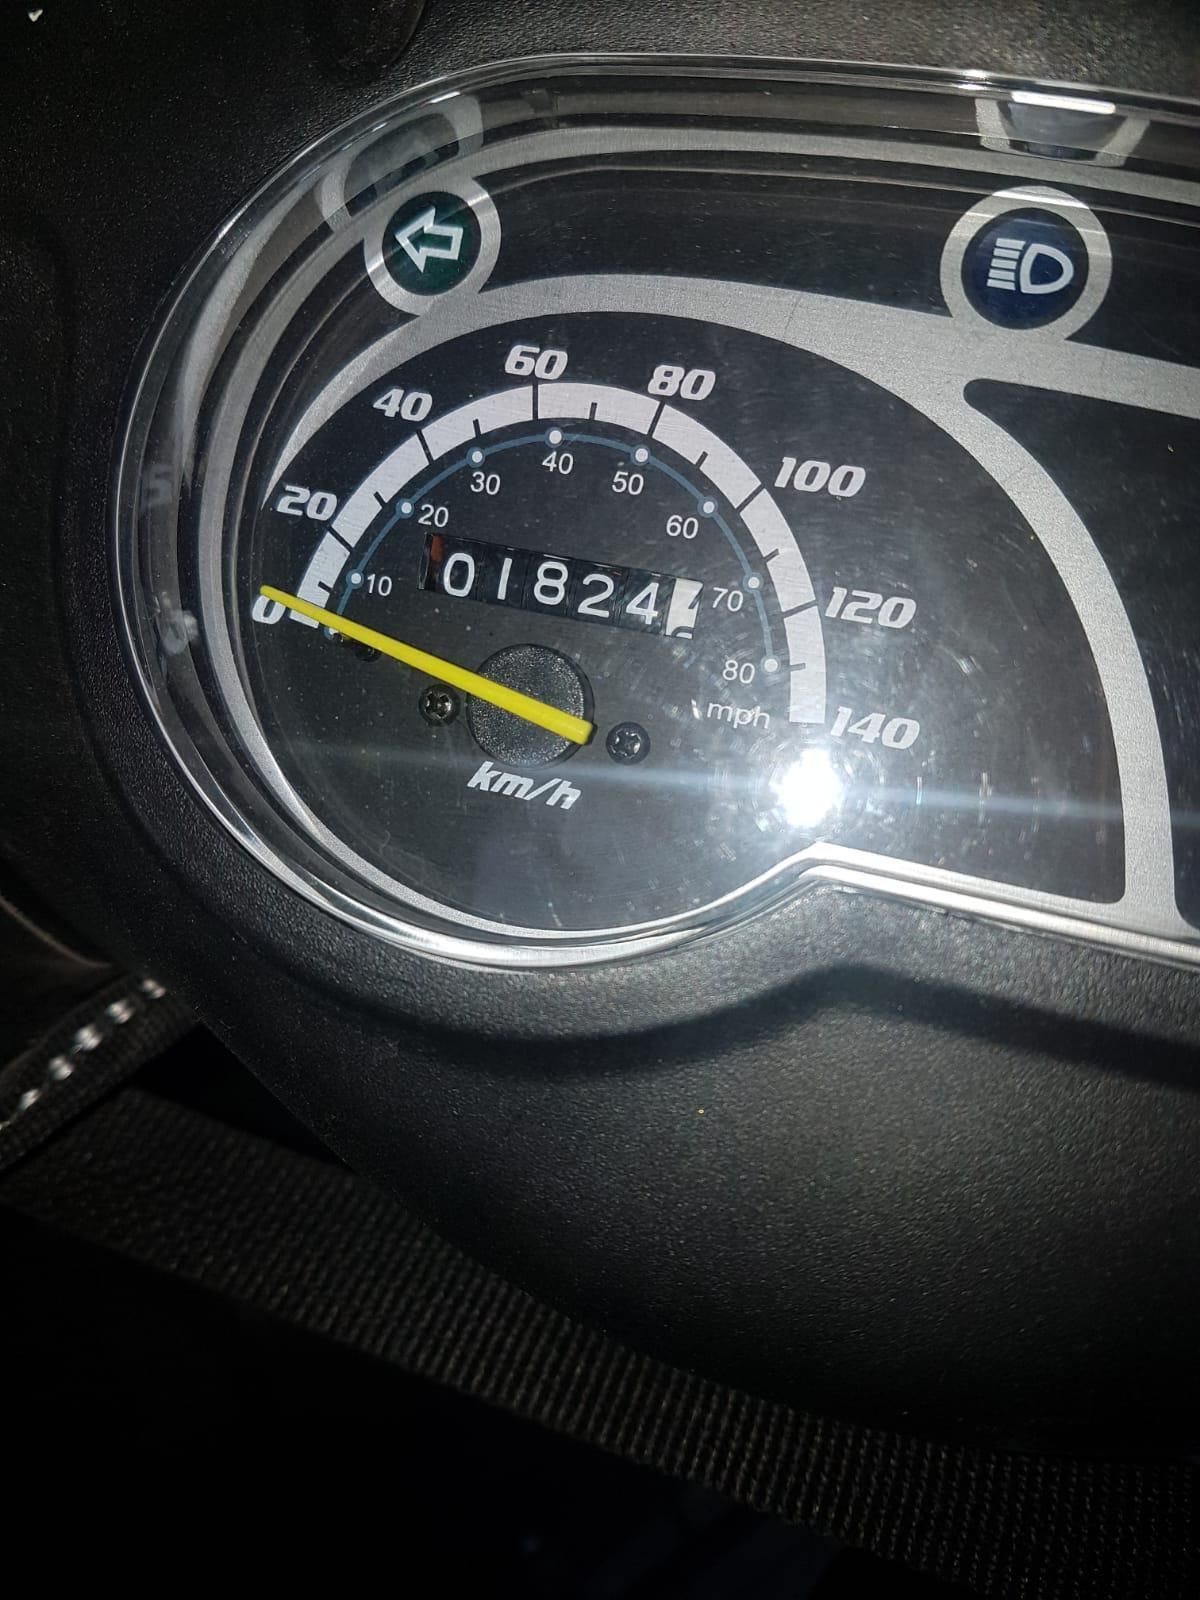0: (439, 548, 478, 598)
1: (492, 553, 516, 602)
2: (576, 568, 615, 620)
4: (623, 577, 666, 629)
7: (672, 572, 706, 614)
8: (531, 558, 570, 609)
odometer: (410, 533, 711, 646)
